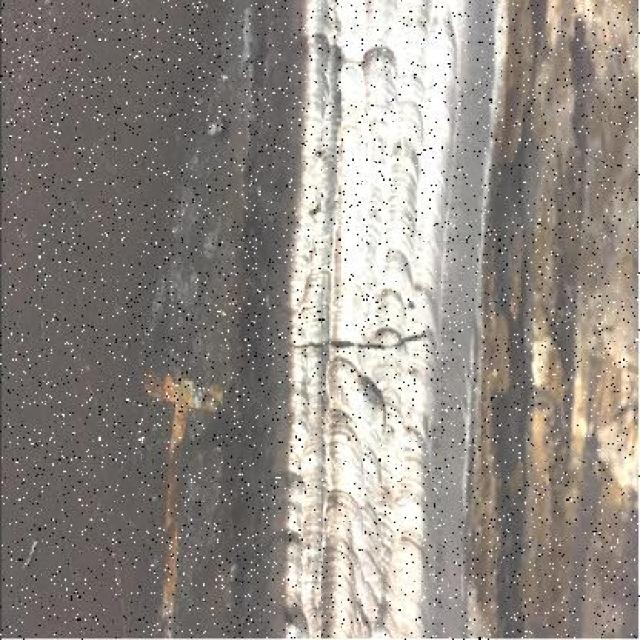Defect: (284, 317, 438, 365)
